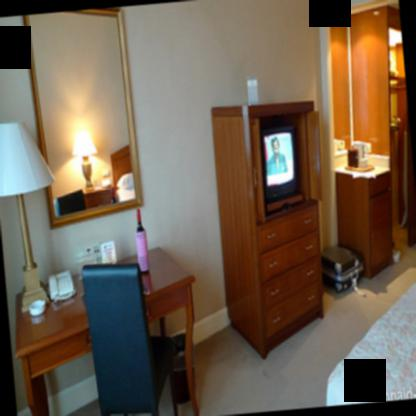suitcase: (320, 239, 366, 297)
